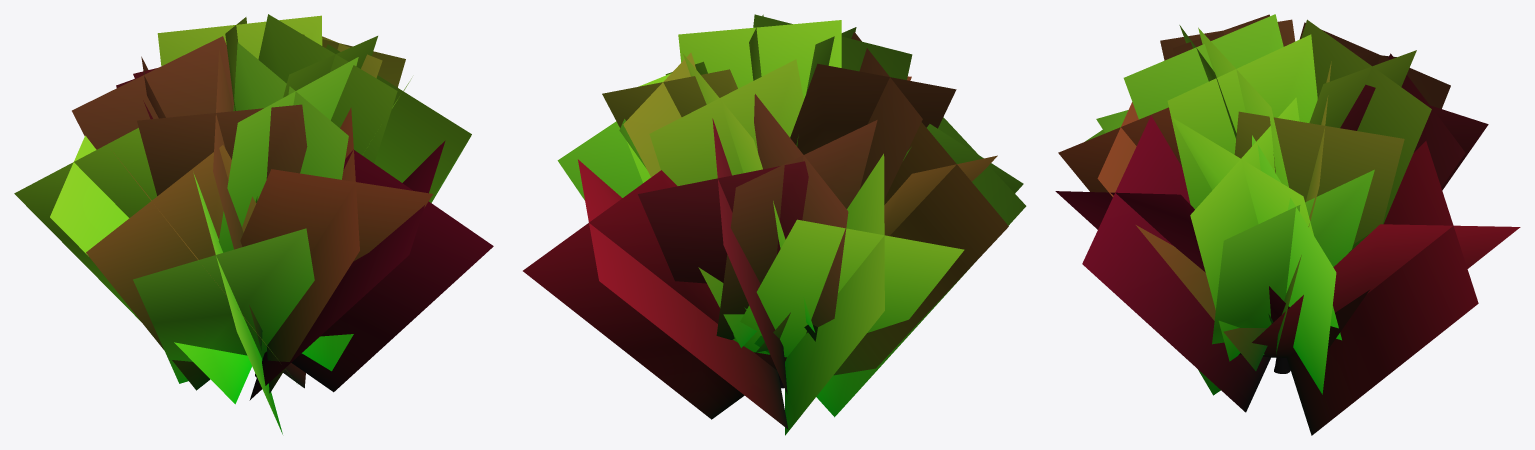
File: Bush_9_2.fbx
3 renders of one model, left to right at view 1: azimuth 30°, elevation 25°; view 2: azimuth 150°, elevation 25°; view 3: azimuth 270°, elevation 25°, orthographic.
Parts seen in each view (by area): view 1: _12; view 2: _12; view 3: _12.
Part boxes in pixels (x1=…): _12: x1=14, y1=14, x2=493, y2=434; _12: x1=523, y1=14, x2=1026, y2=435; _12: x1=1055, y1=14, x2=1520, y2=435.
Bounding box in the file's own units: 505 × 465 × 512.
